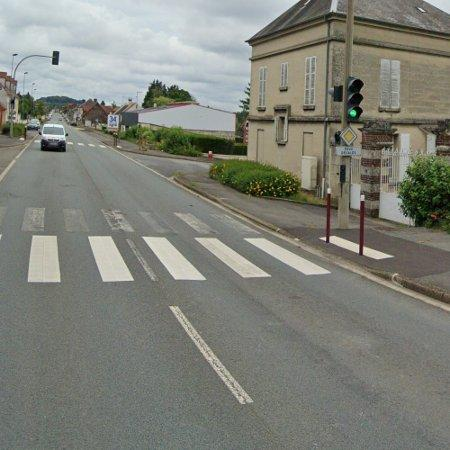crosswalks: (18, 234, 337, 285)
